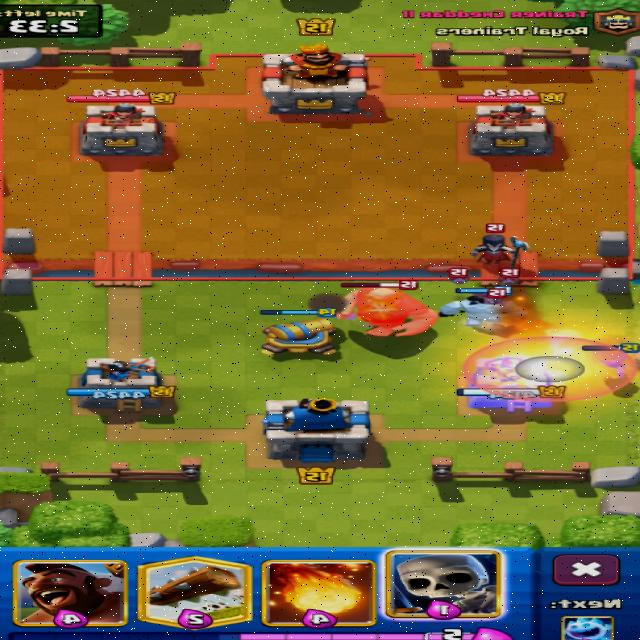Enemy-Bat: (487, 285, 511, 303), (450, 268, 469, 284), (502, 268, 519, 284)
Enemy-Giant: (338, 288, 439, 335)
Enemy-KingTower: (263, 44, 367, 114), (338, 288, 439, 335)
Enemy-NightWitch: (473, 223, 529, 266)
Enemy-PrincessTower: (80, 102, 163, 157), (470, 105, 553, 157)
Player-Cannon: (262, 318, 336, 353)
Player-IceGolem: (440, 287, 524, 330)
Player-KingTower: (263, 398, 371, 463)
Player-Musketeer: (598, 351, 626, 377)
Player-PrincessTower: (458, 356, 565, 412), (68, 357, 176, 412)
